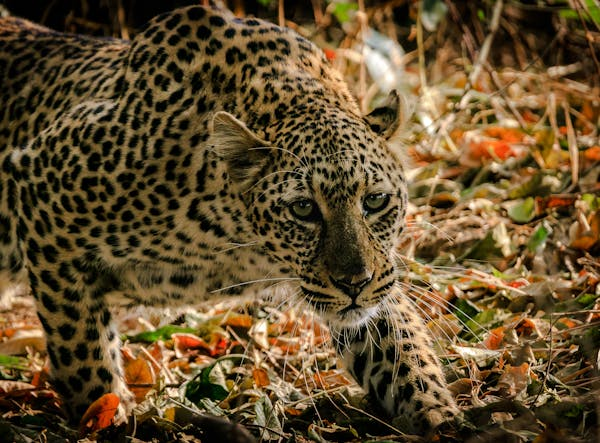Leopard: (1, 5, 460, 441)
